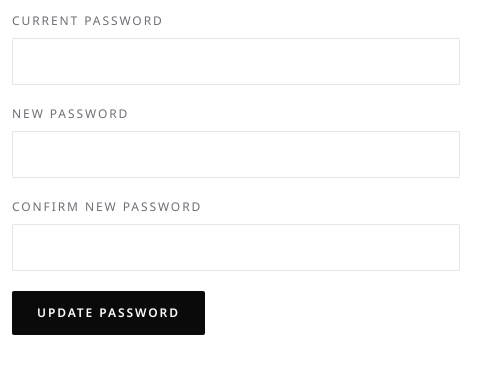
Test: ChangePasswordForm › shows a validation error when the new passwords do not match
Type "old-password" into the password field labelled "Current password" at (236, 62), box [12, 38, 460, 85]
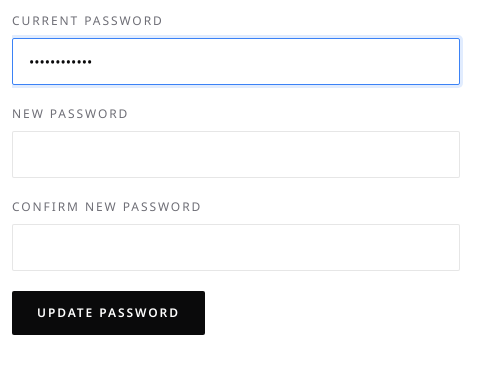
Type "new-password-123" into the password field labelled "New password" at (236, 154), box [12, 131, 460, 178]
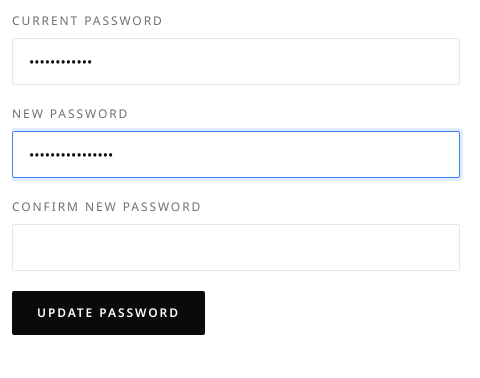
Type "different-password" into the password field labelled "Confirm new password" at (236, 248), box [12, 224, 460, 271]
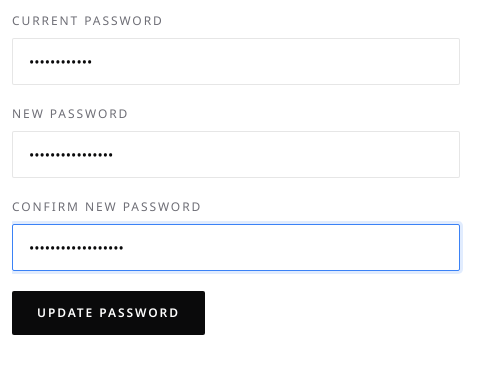
Click the button "Update password" at (108, 313), box [12, 291, 205, 335]
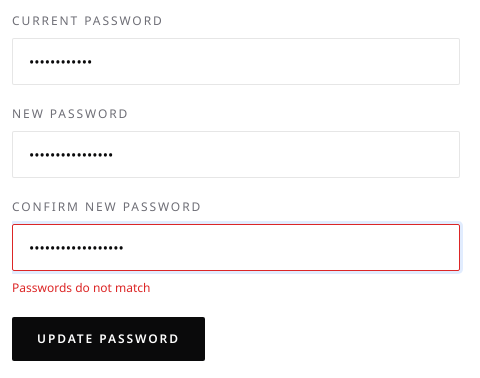
Now the text "Passwords do not match" is shown, box [12, 279, 150, 296]
